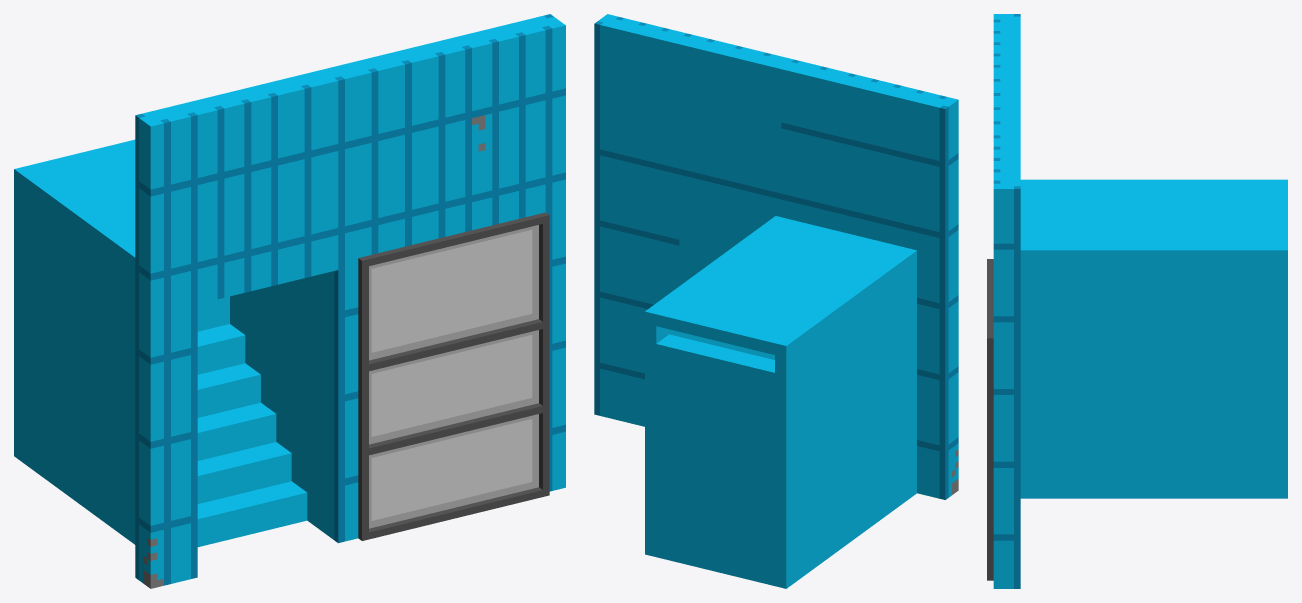
The model's file is retroThree.glb.
The picture shows the model from 3 angles, left to right: view 1: azimuth 30°, elevation 25°; view 2: azimuth 150°, elevation 25°; view 3: azimuth 270°, elevation 25°; orthographic projection. The views are drawn at different scales.
Parts seen in each view (by area): view 1: ObjObject; view 2: ObjObject; view 3: ObjObject.
Boxes of the visible parts, left/top/right/bottom form: ObjObject: left=14, top=14, right=565, bottom=588; ObjObject: left=594, top=14, right=958, bottom=588; ObjObject: left=987, top=14, right=1287, bottom=588.
Size of the model in its own units: 6.2 by 6.6 by 4.5.
1 material, 1 textured.
